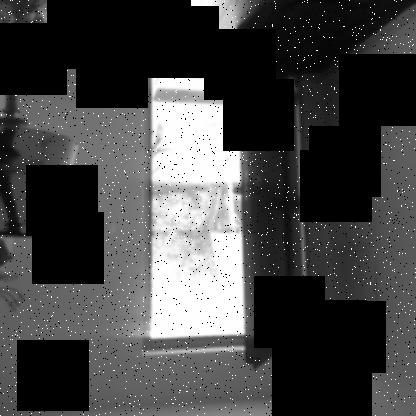Porte: (136, 22, 314, 372)
